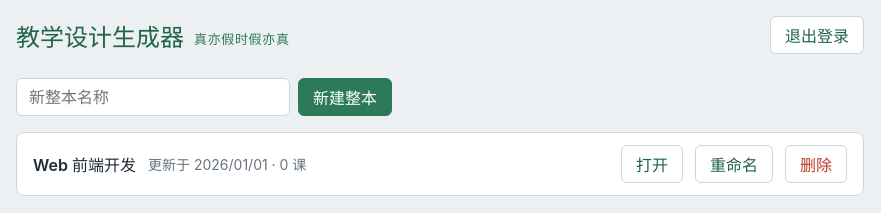
Test: BookListPage › deletes a book after confirmation
The width and height of the screenshot is (881, 213).
Click the button with test id "delete-b1".
click(816, 164)  # box [785,145,847,183]
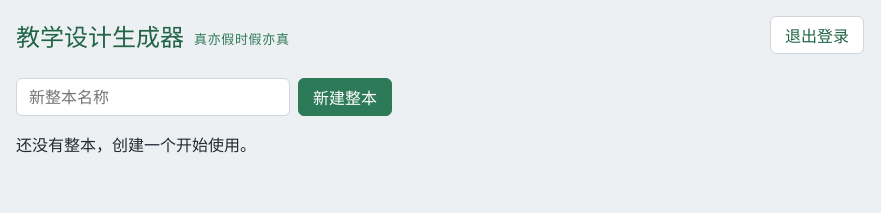
Now the text "还没有整本" is shown, box [16,135,256,155]
